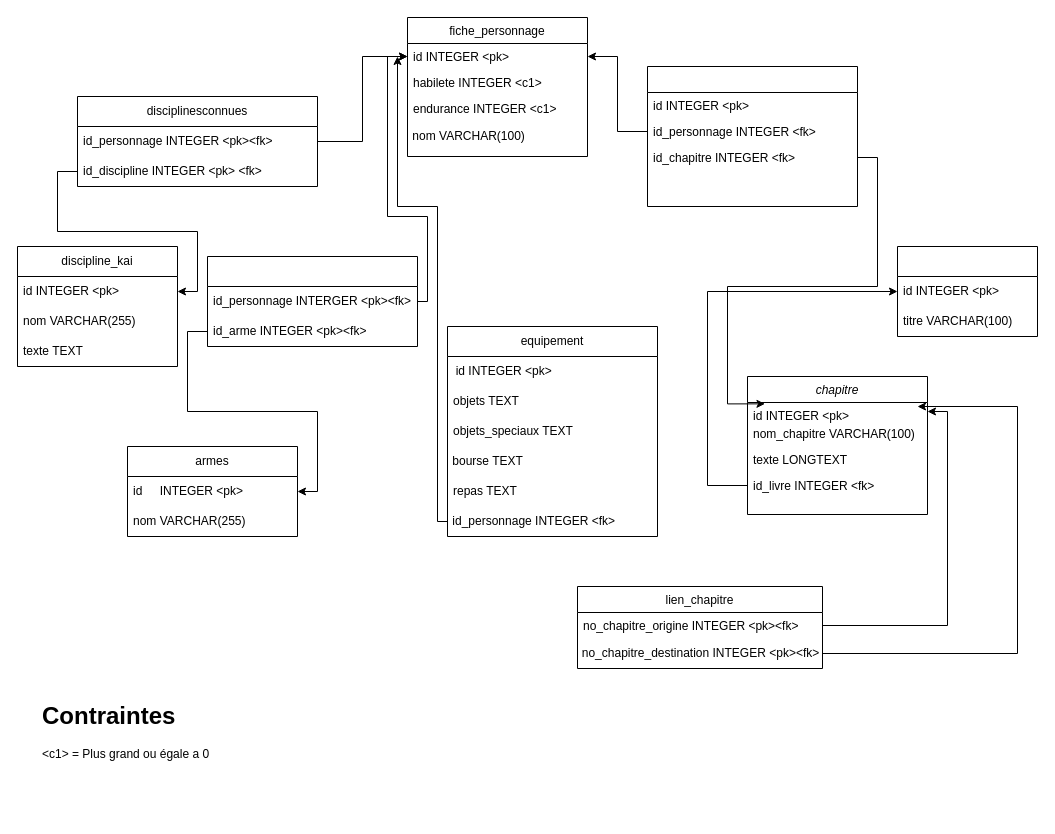
Some shapes in this 1055 by 834 pixel diagram are drawn without their labels. The box of each missing label's shape, as (x1, y1, x2, y2) in pixels:
armespossede: (206, 256, 418, 346)
livre: (896, 246, 1038, 336)
sauvegarde: (646, 66, 858, 206)
